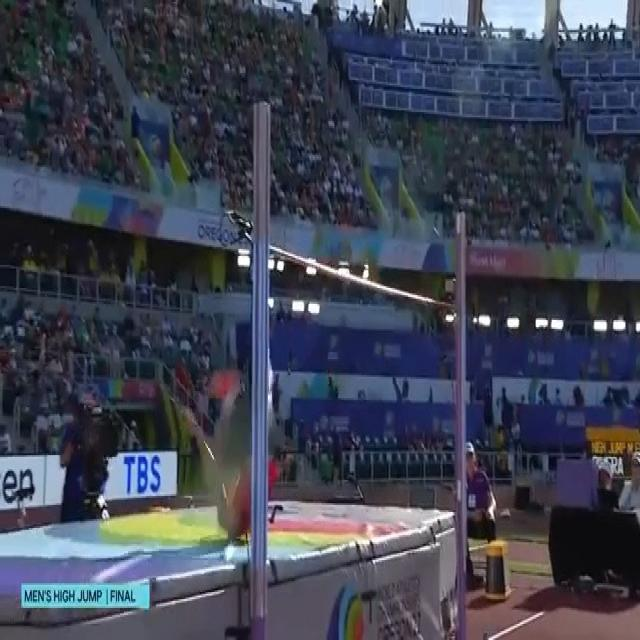land: (178, 374, 280, 542)
